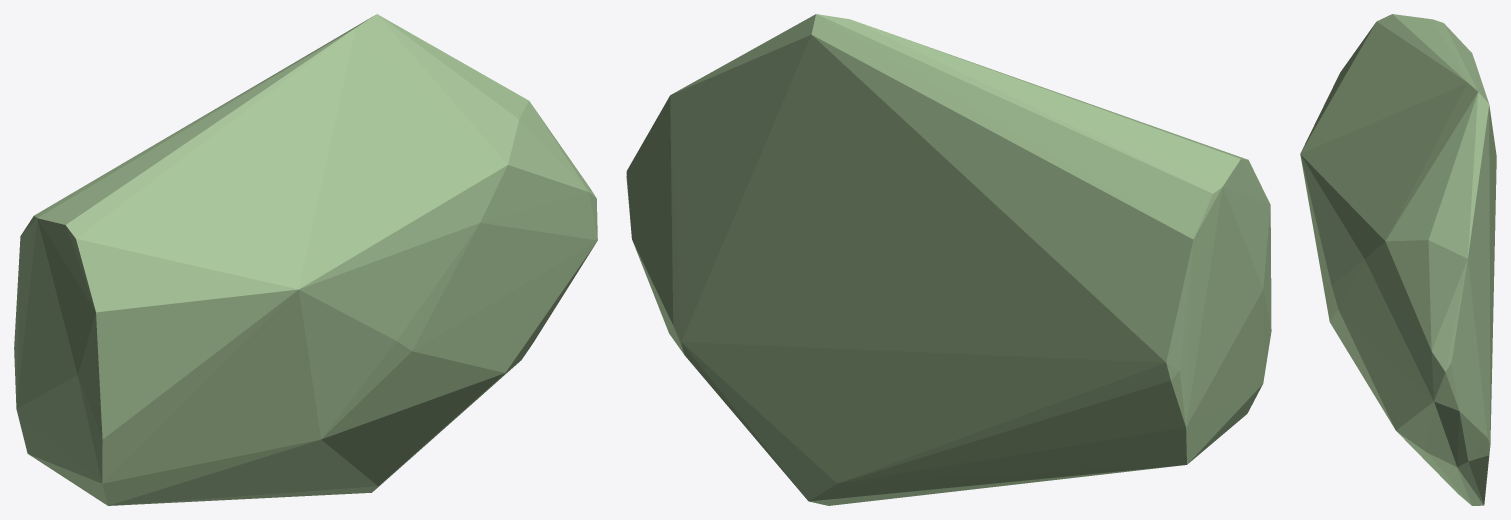
Rendered from ppe_gloves_leather_a01.glb.
3 renders of one model, left to right at view 1: azimuth 30°, elevation 25°; view 2: azimuth 150°, elevation 25°; view 3: azimuth 270°, elevation 25°, orthographic. The views are drawn at different scales.
Visible parts, largest first — view 1: geometry_0; view 2: geometry_0; view 3: geometry_0.
Boxes of the visible parts, x1,y1,x2,y2 form: geometry_0: (14,14,597,505); geometry_0: (626,14,1271,505); geometry_0: (1300,14,1496,505).
Size of the model in its own units: 0.4781 by 0.3822 by 0.1629.
